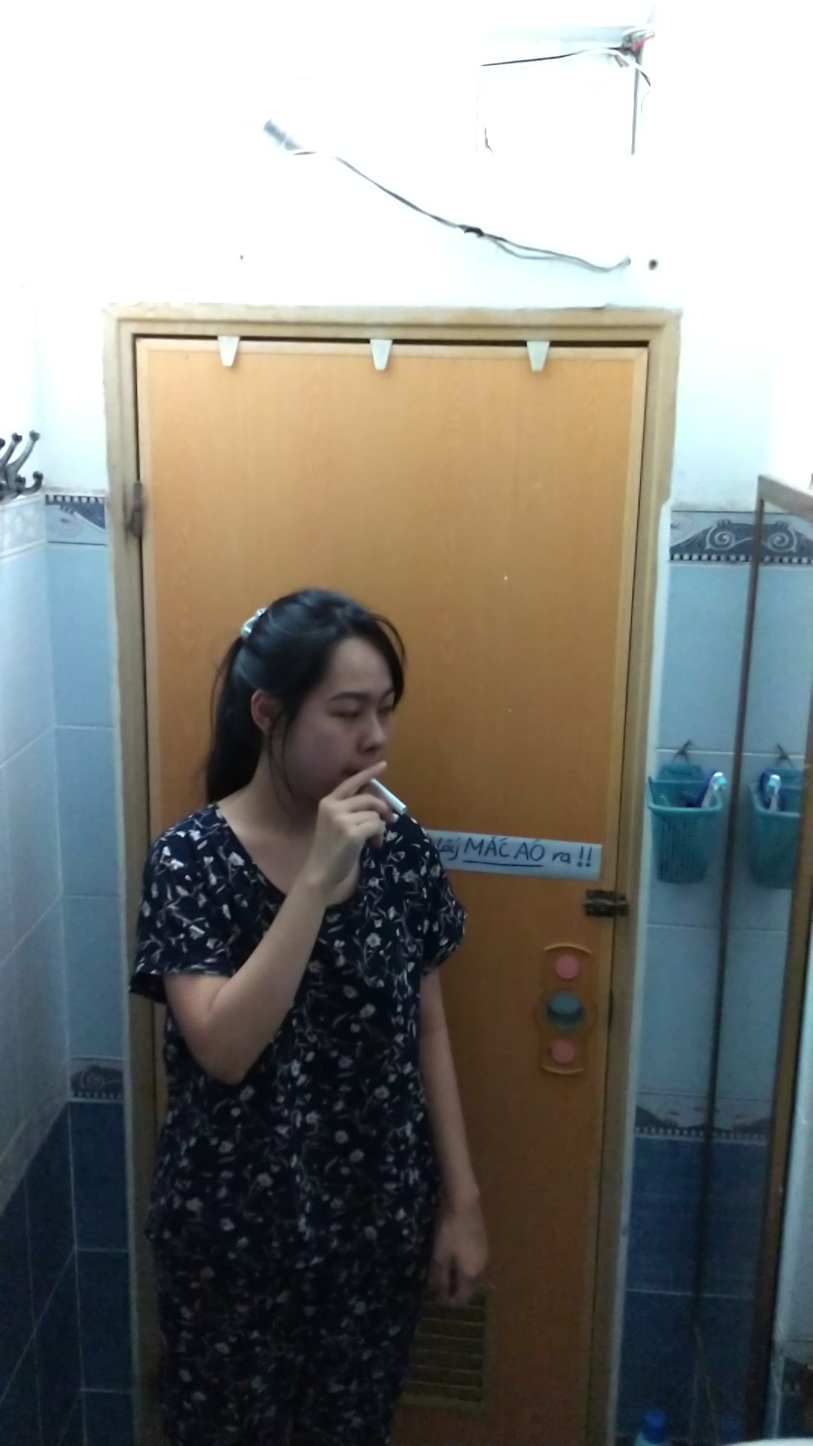cigarette: (373, 776, 411, 818)
person: (128, 584, 489, 1446)
